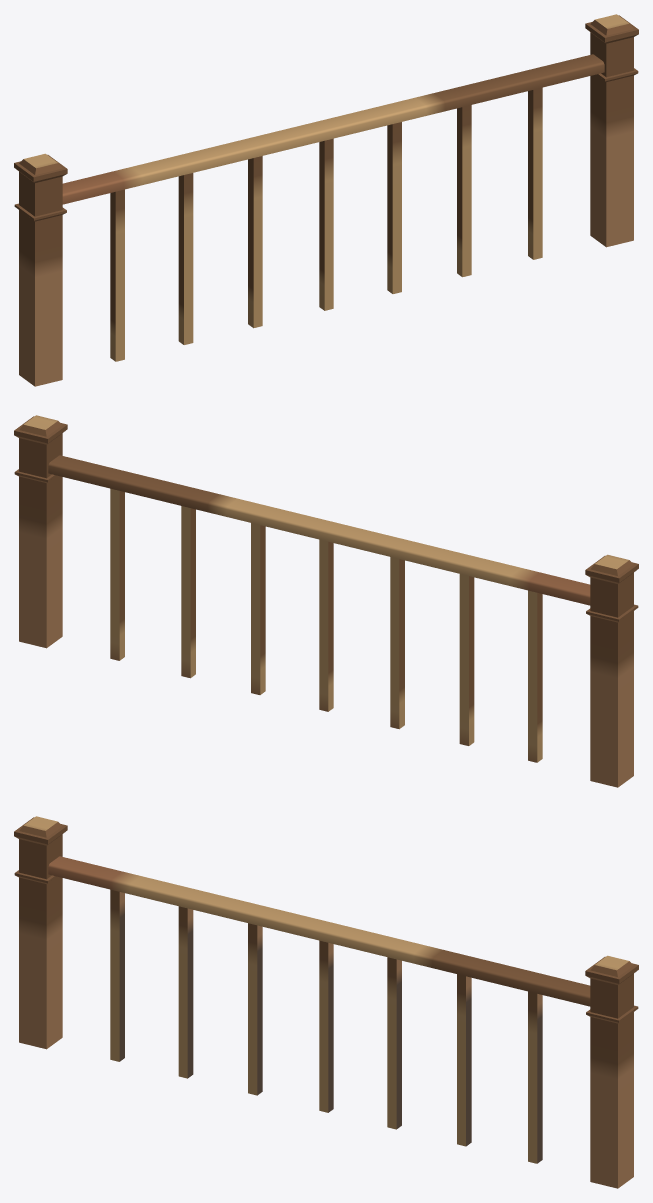
The model's file is DBK_Stairs_Wood_Rail_Long.FBX.
3 renders of one model, top to bottom at view 1: azimuth 30°, elevation 25°; view 2: azimuth 150°, elevation 25°; view 3: azimuth 330°, elevation 25°, orthographic.
Visible parts, largest first — view 1: DBK_Stairs_Wood_Rail_Long; view 2: DBK_Stairs_Wood_Rail_Long; view 3: DBK_Stairs_Wood_Rail_Long.
Part boxes in pixels (x1=…): DBK_Stairs_Wood_Rail_Long: x1=14, y1=14, x2=638, y2=386; DBK_Stairs_Wood_Rail_Long: x1=14, y1=415, x2=638, y2=787; DBK_Stairs_Wood_Rail_Long: x1=14, y1=816, x2=638, y2=1188.
Bounding box in the file's own units: 261 × 89.17 × 14.68.
